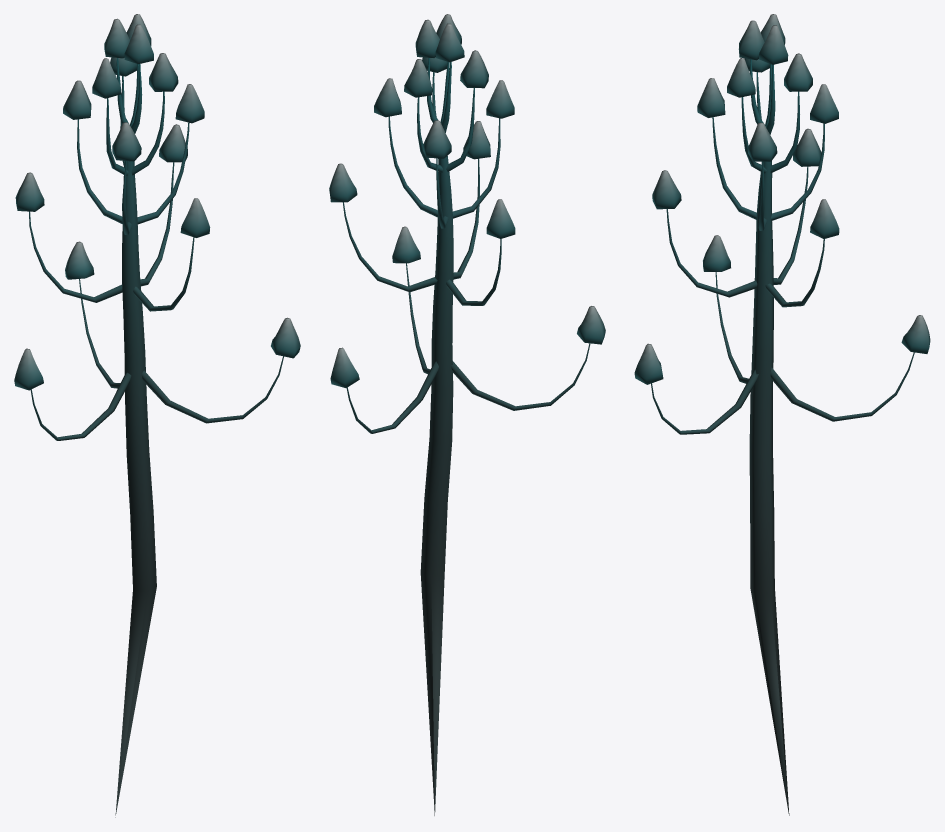
The model's file is plants-flowers-teal-bell-flower_v3.glb.
The picture shows the model from 3 angles, left to right: view 1: azimuth 30°, elevation 25°; view 2: azimuth 150°, elevation 25°; view 3: azimuth 270°, elevation 25°; orthographic projection. The views are drawn at different scales.
Parts seen in each view (by area): view 1: Teal Bell Flower_v3; view 2: Teal Bell Flower_v3; view 3: Teal Bell Flower_v3.
Boxes of the visible parts, x1,y1,x2,y2 form: Teal Bell Flower_v3: (14,14,300,817); Teal Bell Flower_v3: (329,14,605,815); Teal Bell Flower_v3: (634,14,930,815).
Size of the model in its own units: 0.1947 by 0.6 by 0.2012.
